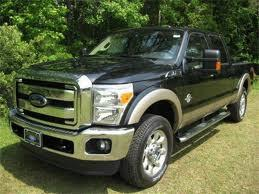Car: (7, 18, 258, 191)
